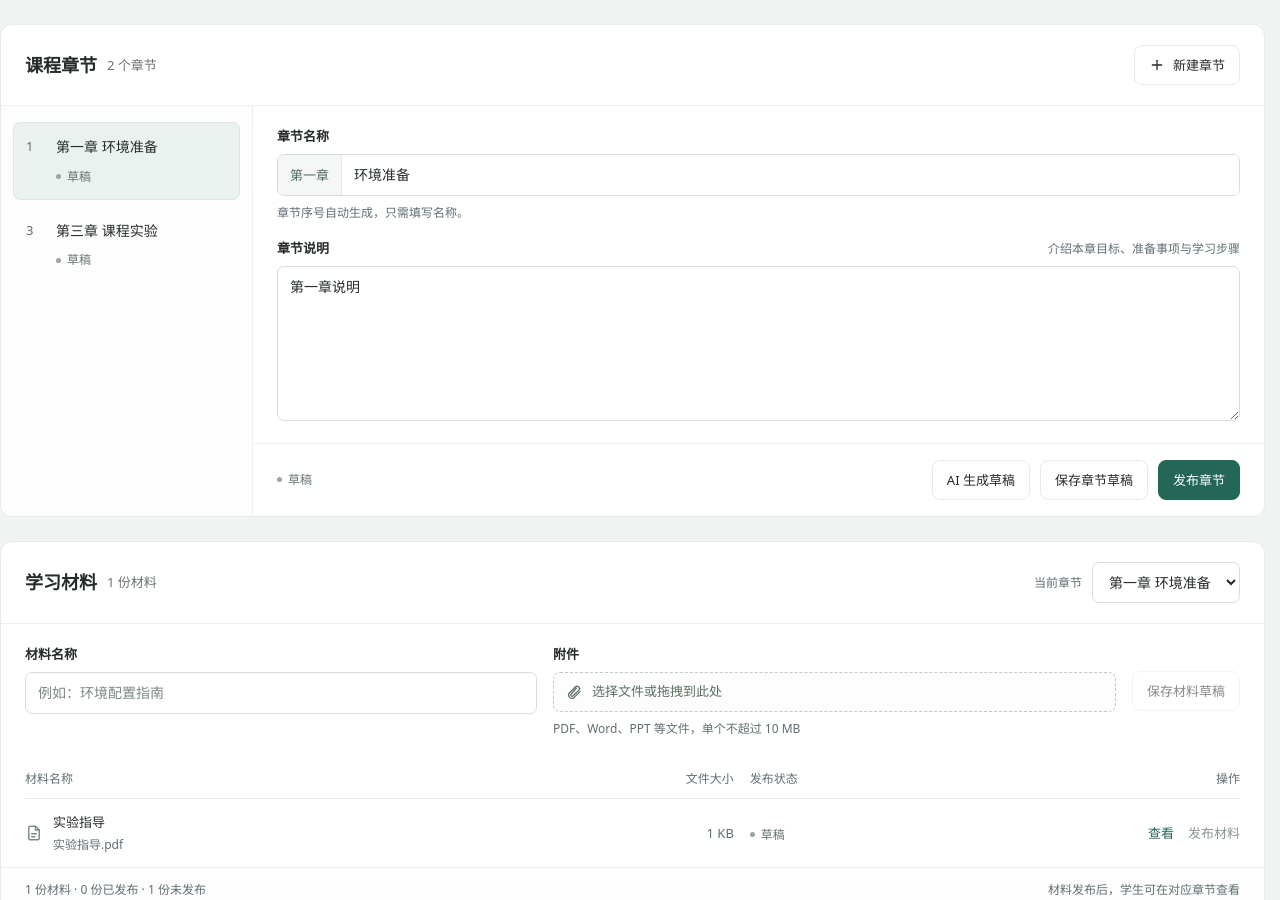
uses the maximum existing position and keeps original ordinals when editing
The width and height of the screenshot is (1280, 900).
Later steps or results of the test are not shown.
Expected: the button "1 第一章 环境准备 草稿" is shown, [13, 122, 240, 200]
Expected: the field labelled "章节名称" holds "环境准备", [342, 155, 1239, 195]
Click the button "新建章节" at (1187, 65), box [1134, 45, 1240, 85]
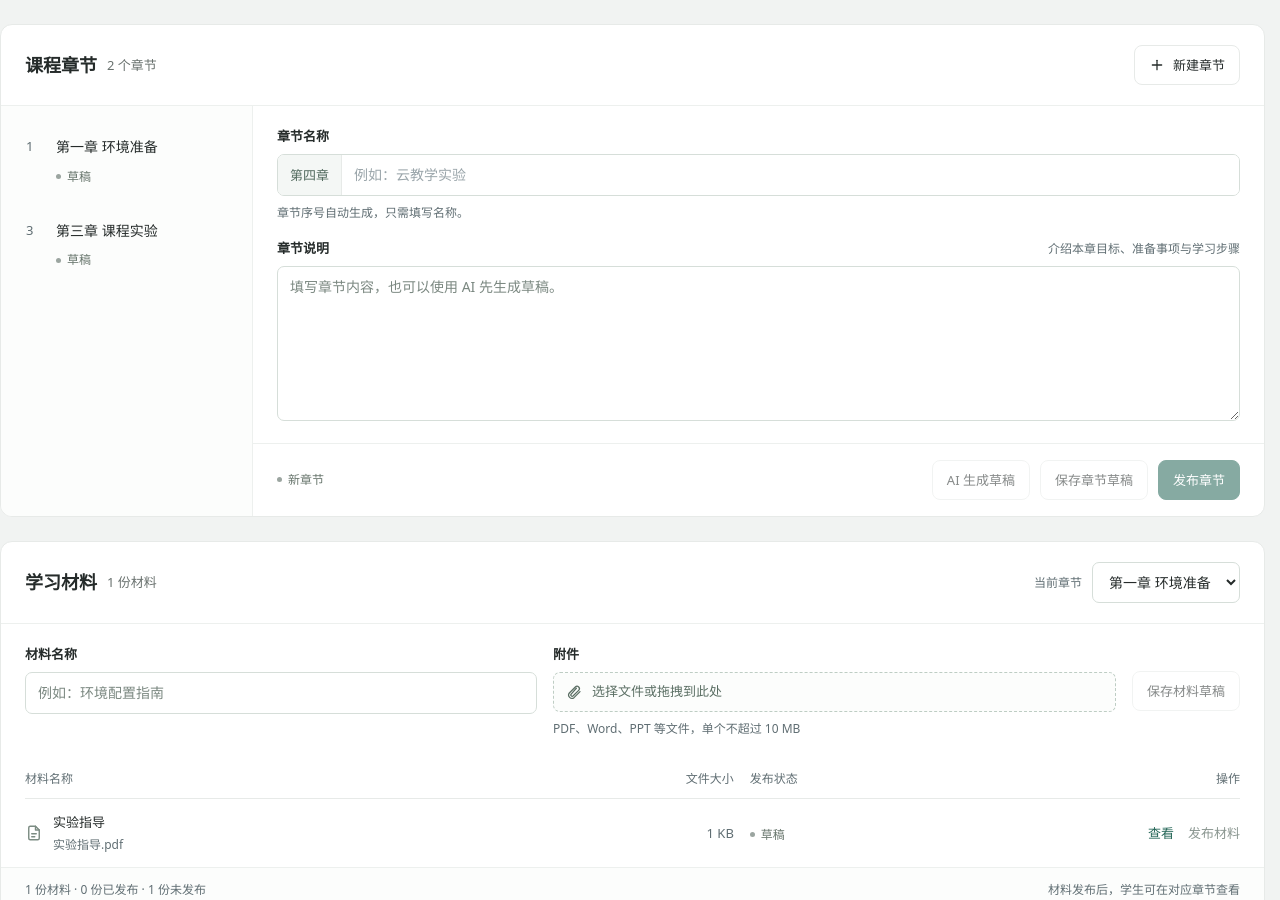
Expected: the text with test id "chapter-prefix" reads "第四章", [290, 166, 329, 184]
Click the button "3 第三章 课程实验 草稿" at (126, 244), box [13, 206, 240, 283]
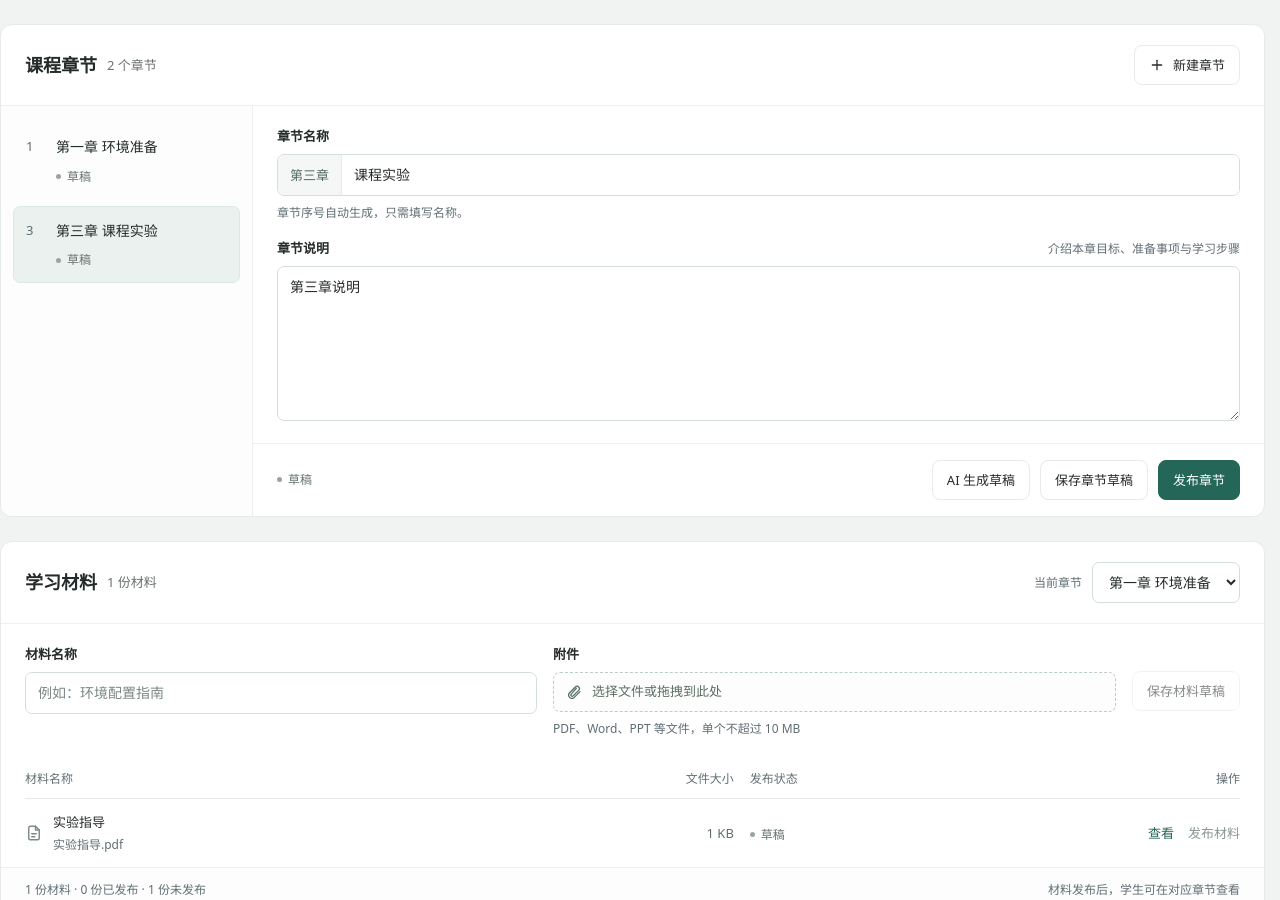
Expected: the field labelled "章节名称" holds "课程实验", [342, 155, 1239, 195]
Expected: the text with test id "chapter-prefix" reads "第三章", [290, 166, 329, 184]
